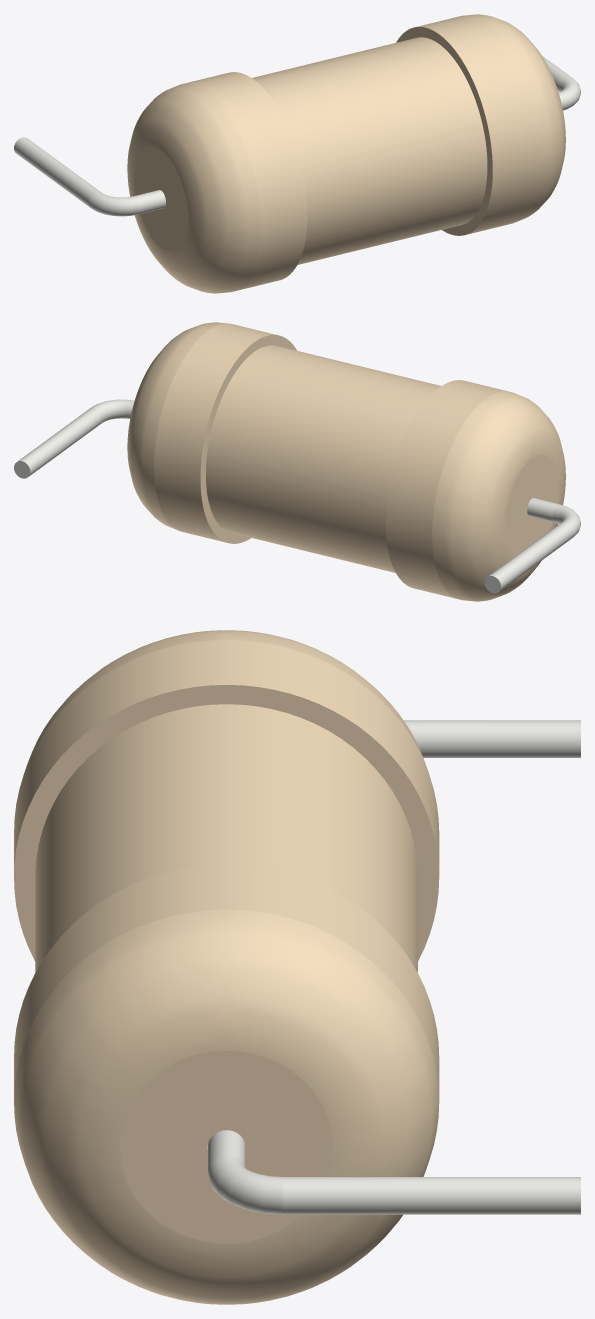
Rendered from R_Axial_DIN0918_L18.0mm_D9.0mm_P22.86mm_Horizontal.glb.
The picture shows the model from 3 angles, top to bottom: view 1: azimuth 30°, elevation 25°; view 2: azimuth 150°, elevation 25°; view 3: azimuth 270°, elevation 25°; orthographic projection. The views are drawn at different scales.
Visible parts, largest first — view 1: Shape_IndexedFaceSet.004, Shape_IndexedFaceSet.001, Shape_IndexedFaceSet.008, Shape_IndexedFaceSet, Shape_IndexedFaceSet.010, Shape_IndexedFaceSet.003, Shape_IndexedFaceSet.006, Shape_IndexedFaceSet.009, Shape_IndexedFaceSet.007, Shape_IndexedFaceSet.014, Shape_IndexedFaceSet.005; view 2: Shape_IndexedFaceSet.004, Shape_IndexedFaceSet.001, Shape_IndexedFaceSet, Shape_IndexedFaceSet.008, Shape_IndexedFaceSet.010, Shape_IndexedFaceSet.003, Shape_IndexedFaceSet.006, Shape_IndexedFaceSet.015, Shape_IndexedFaceSet.009, Shape_IndexedFaceSet.014, Shape_IndexedFaceSet.005, Shape_IndexedFaceSet.007; view 3: Shape_IndexedFaceSet.010, Shape_IndexedFaceSet.004, Shape_IndexedFaceSet.012, Shape_IndexedFaceSet.008, Shape_IndexedFaceSet, Shape_IndexedFaceSet.002, Shape_IndexedFaceSet.015, Shape_IndexedFaceSet.009, Shape_IndexedFaceSet.001, Shape_IndexedFaceSet.014, Shape_IndexedFaceSet.013.
Part boxes in pixels (bbox=[...]): Shape_IndexedFaceSet.004: bbox=[252, 37, 487, 264]; Shape_IndexedFaceSet.001: bbox=[127, 83, 261, 293]; Shape_IndexedFaceSet.008: bbox=[417, 15, 538, 234]; Shape_IndexedFaceSet: bbox=[185, 72, 307, 291]; Shape_IndexedFaceSet.010: bbox=[465, 14, 565, 221]; Shape_IndexedFaceSet.003: bbox=[134, 147, 187, 251]; Shape_IndexedFaceSet.006: bbox=[396, 27, 492, 235]; Shape_IndexedFaceSet.009: bbox=[14, 137, 101, 207]; Shape_IndexedFaceSet.007: bbox=[89, 192, 140, 216]; Shape_IndexedFaceSet.014: bbox=[558, 77, 580, 110]; Shape_IndexedFaceSet.005: bbox=[135, 190, 165, 214]; Shape_IndexedFaceSet.004: bbox=[206, 345, 441, 572]; Shape_IndexedFaceSet.001: bbox=[432, 391, 565, 601]; Shape_IndexedFaceSet: bbox=[386, 380, 508, 598]; Shape_IndexedFaceSet.008: bbox=[154, 323, 276, 542]; Shape_IndexedFaceSet.010: bbox=[127, 322, 227, 529]; Shape_IndexedFaceSet.003: bbox=[505, 455, 558, 556]; Shape_IndexedFaceSet.006: bbox=[200, 335, 296, 543]; Shape_IndexedFaceSet.015: bbox=[17, 406, 105, 476]; Shape_IndexedFaceSet.009: bbox=[488, 521, 575, 591]; Shape_IndexedFaceSet.014: bbox=[93, 399, 134, 421]; Shape_IndexedFaceSet.005: bbox=[527, 498, 558, 522]; Shape_IndexedFaceSet.007: bbox=[552, 504, 580, 535]; Shape_IndexedFaceSet.010: bbox=[14, 909, 439, 1304]; Shape_IndexedFaceSet.004: bbox=[35, 704, 417, 1148]; Shape_IndexedFaceSet.012: bbox=[120, 1051, 332, 1243]; Shape_IndexedFaceSet.008: bbox=[14, 864, 439, 1099]; Shape_IndexedFaceSet: bbox=[14, 640, 439, 875]; Shape_IndexedFaceSet.002: bbox=[14, 685, 439, 961]; Shape_IndexedFaceSet.015: bbox=[283, 1177, 580, 1214]; Shape_IndexedFaceSet.009: bbox=[404, 720, 580, 757]; Shape_IndexedFaceSet.001: bbox=[24, 630, 428, 772]; Shape_IndexedFaceSet.014: bbox=[208, 1154, 283, 1214]; Shape_IndexedFaceSet.013: bbox=[208, 1130, 245, 1168].
Size of the model in its own units: 9.31 by 3.54 by 4.72.
